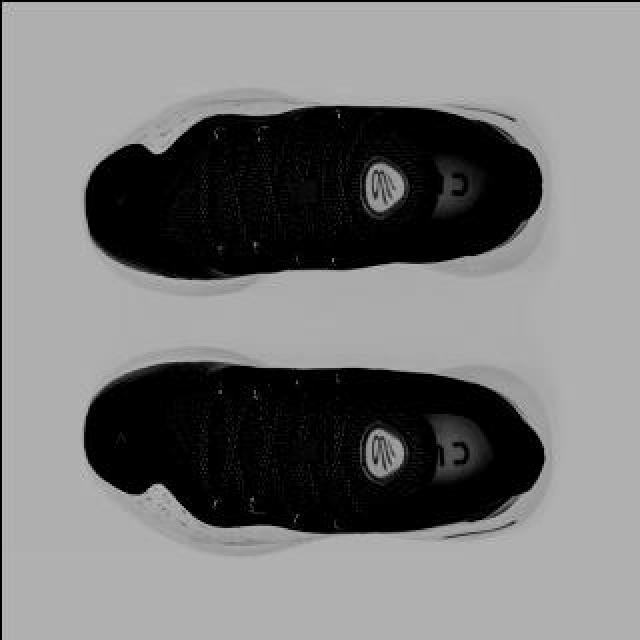shoe: (78, 343, 554, 559), (82, 96, 550, 300)
